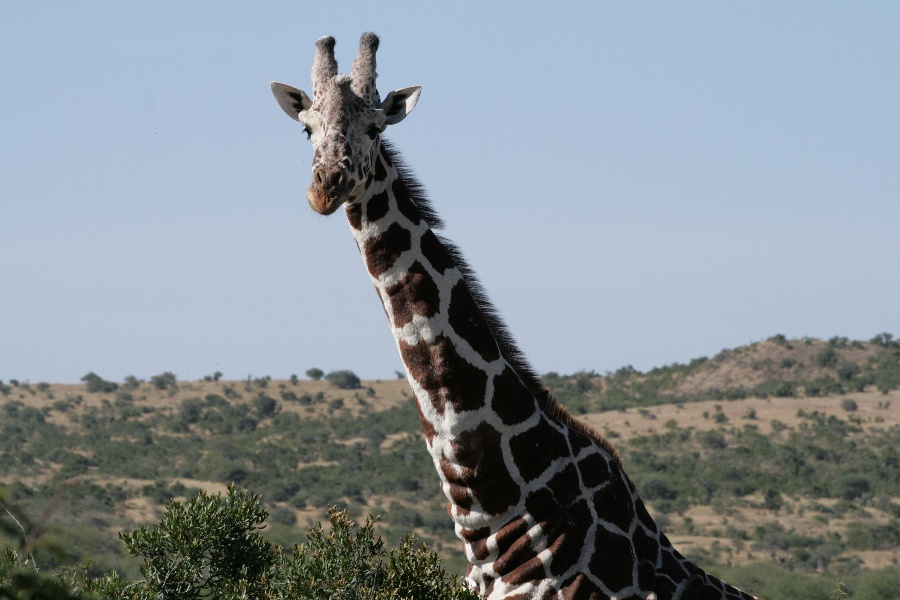giraffe: (249, 16, 767, 599)
